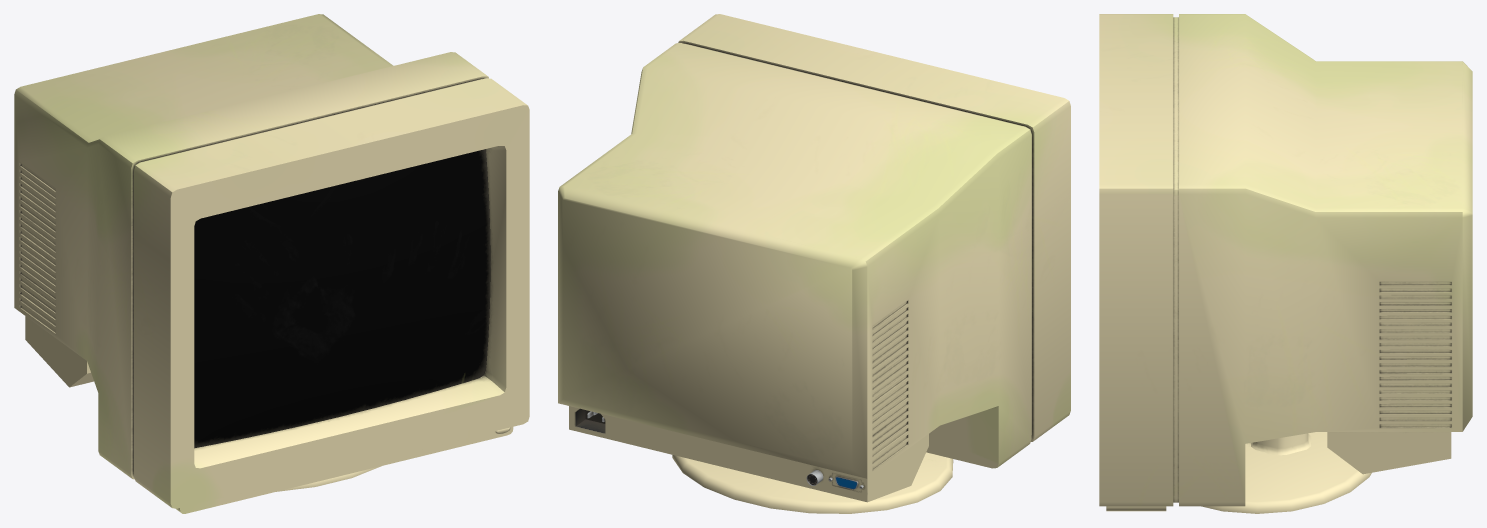
The model's file is old_monitor.glb.
3 views of the same model, side by side, from view 1: azimuth 30°, elevation 25°; view 2: azimuth 150°, elevation 25°; view 3: azimuth 270°, elevation 25° (orthographic).
Visible parts, largest first — view 1: Box001; view 2: Box001; view 3: Box001.
Part boxes in pixels (box(x1,y1,x2,y2)): Box001: box(14, 14, 529, 513); Box001: box(558, 14, 1070, 513); Box001: box(1099, 14, 1472, 513).
Size of the model in its own units: 83.3 by 77.31 by 74.6.
Materials: 1 (1 with a texture image).
